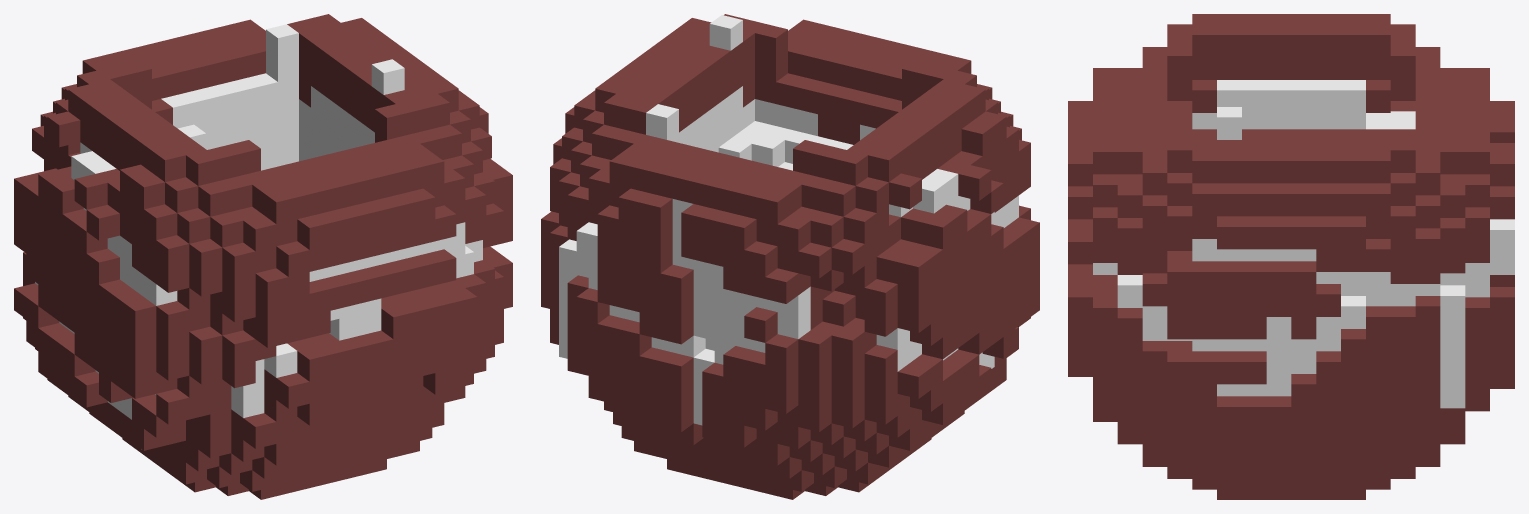
File: coconutexplode.obj
3 renders of one model, left to right at view 1: azimuth 30°, elevation 25°; view 2: azimuth 150°, elevation 25°; view 3: azimuth 270°, elevation 25°, orthographic. The views are drawn at different scales.
Bounding box in the file's own units: 18 × 17 × 18.
1 material, 1 textured.
